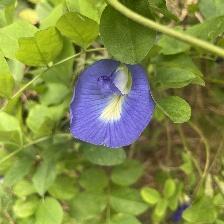shankupushpam: (70, 56, 156, 154)
